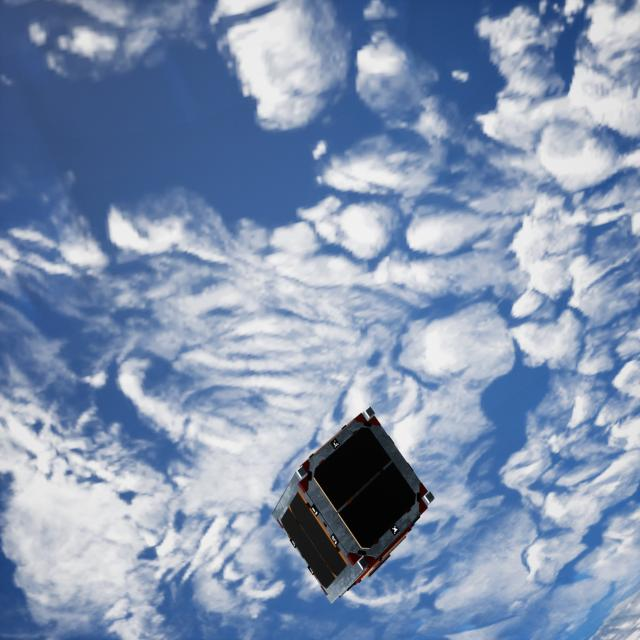medium_debris: (267, 408, 438, 604)
